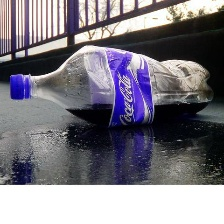bottle: (4, 41, 219, 129)
